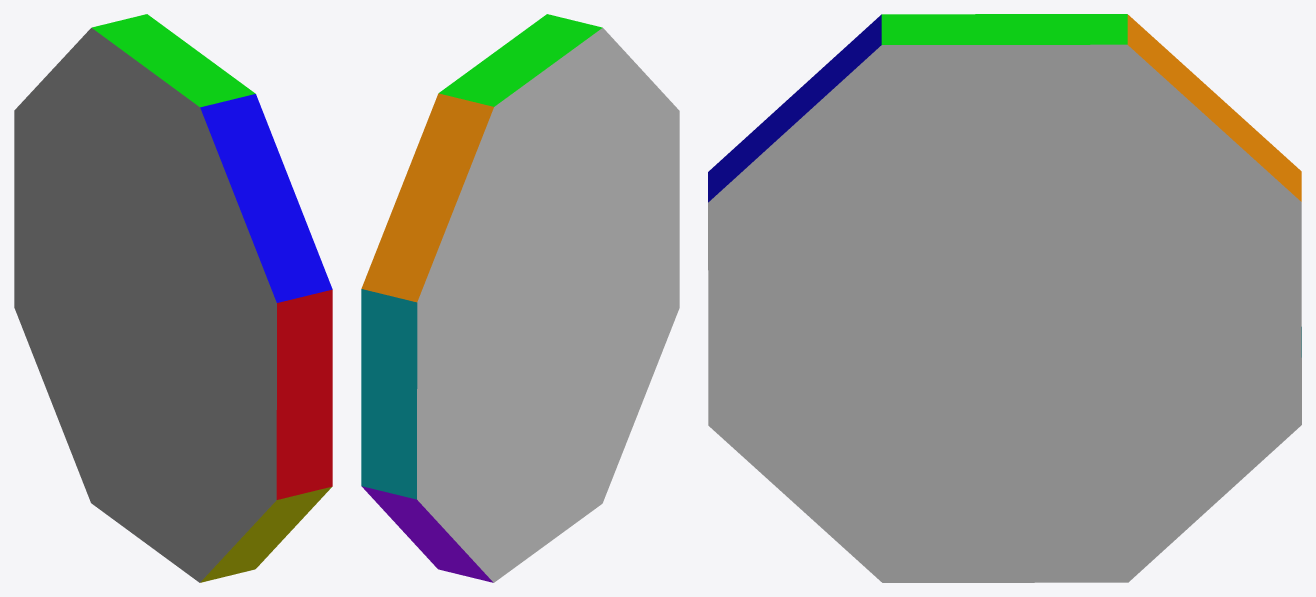
File: SlotWheel1.glb
3 renders of one model, left to right at view 1: azimuth 30°, elevation 25°; view 2: azimuth 150°, elevation 25°; view 3: azimuth 270°, elevation 25°, orthographic. The views are drawn at different scales.
Visible parts, largest first — view 1: Cylinder; view 2: Cylinder; view 3: Cylinder.
Boxes of the visible parts, box(x1,y1,x2,y2) form: Cylinder: box(14, 14, 332, 582); Cylinder: box(361, 14, 679, 582); Cylinder: box(708, 14, 1301, 582).
Size of the model in its own units: 0.2268 by 1.85 by 1.85.
